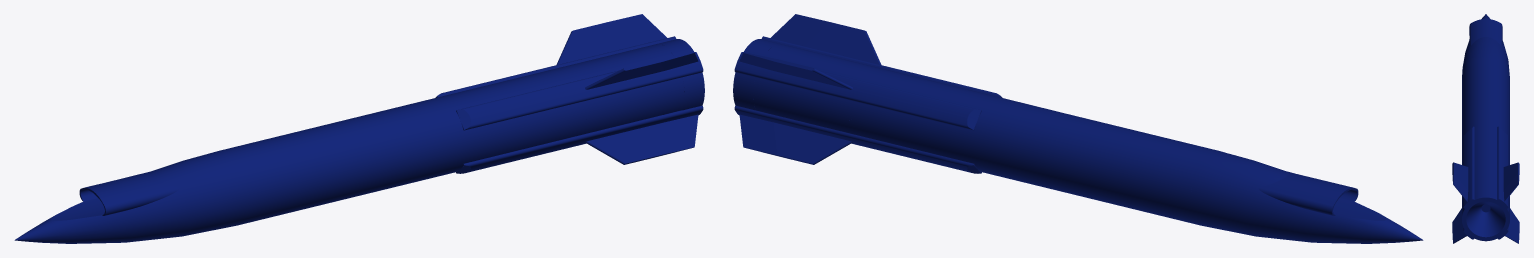
Rendered from Halberd_UpperStage_V1.obj.
3 renders of one model, left to right at view 1: azimuth 30°, elevation 25°; view 2: azimuth 150°, elevation 25°; view 3: azimuth 270°, elevation 25°, orthographic. The views are drawn at different scales.
Size of the model in its own units: 2.82 by 0.3892 by 0.3892.
